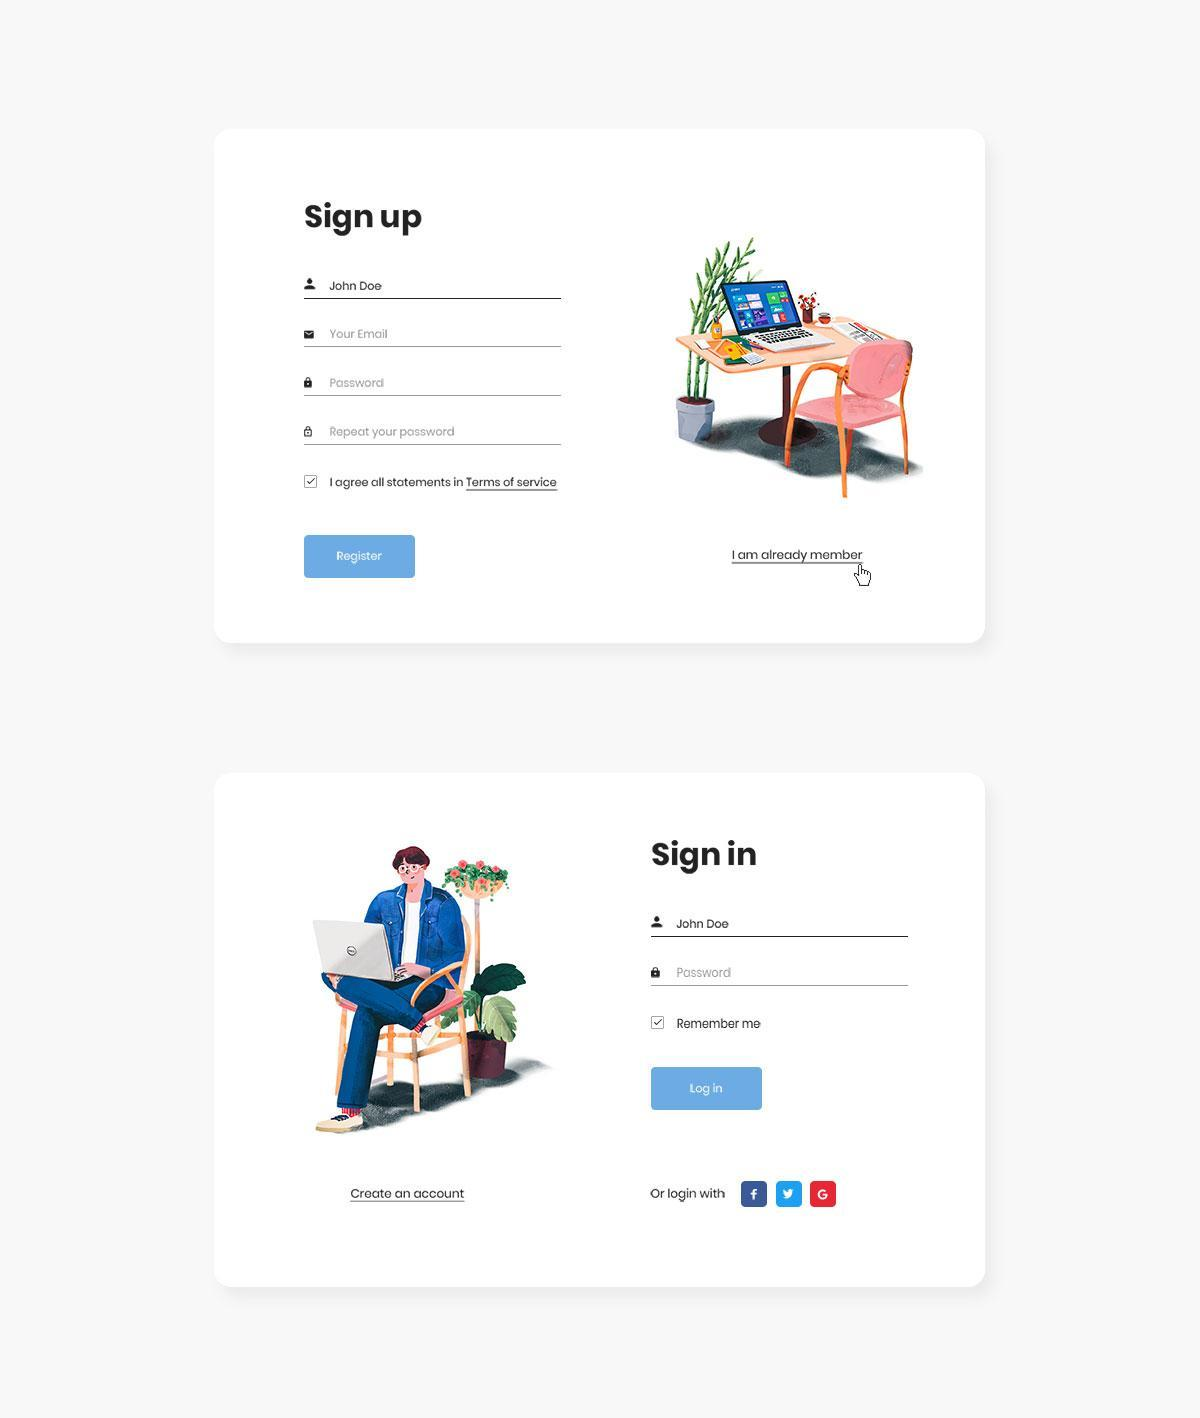button: (302, 533, 419, 583), (654, 1062, 767, 1112)
checkbox: (299, 471, 327, 499), (644, 1012, 669, 1037)
icon: (742, 1182, 769, 1208), (811, 1182, 838, 1207), (779, 1182, 804, 1208), (646, 958, 669, 985), (649, 910, 670, 937), (300, 274, 320, 294), (301, 424, 321, 442), (300, 326, 320, 342), (299, 376, 318, 392)
label: (299, 189, 429, 243), (649, 831, 765, 875), (329, 475, 565, 496), (676, 1014, 769, 1033)
